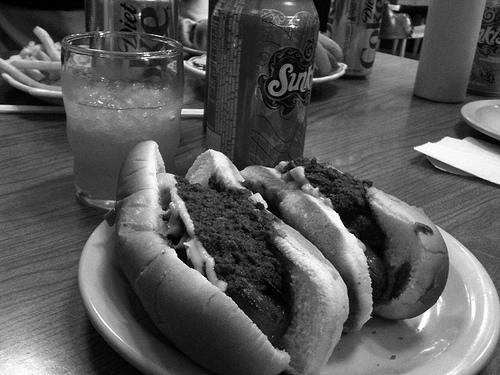glass: (61, 32, 183, 209)
